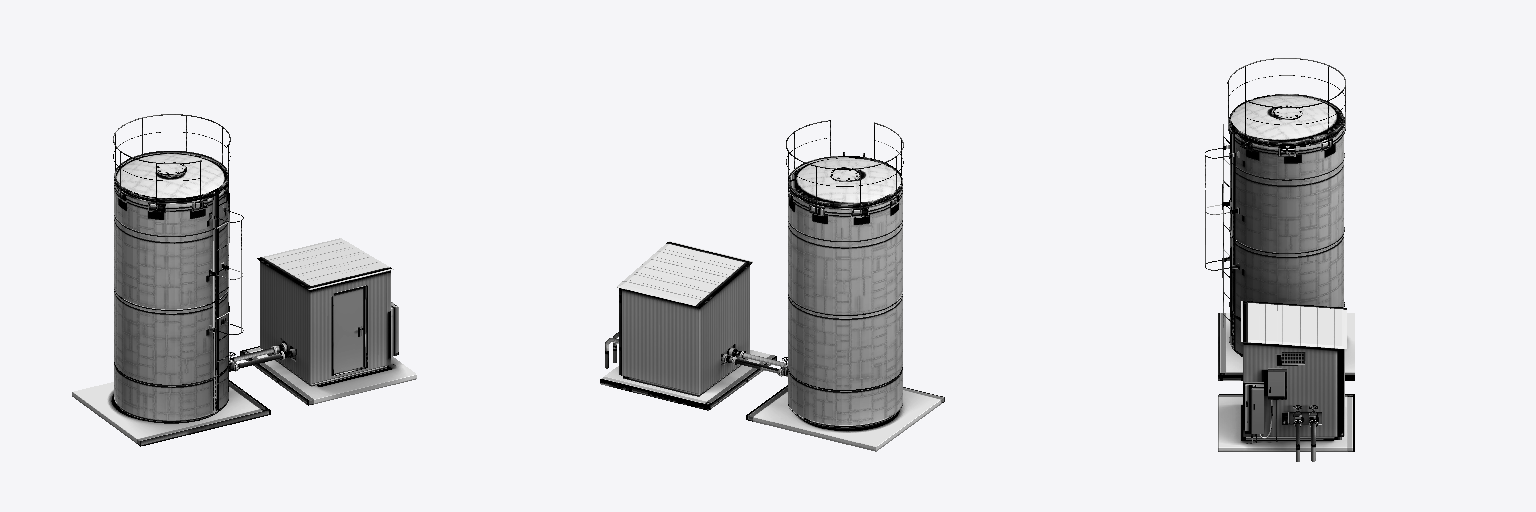
3 views of the same model, side by side, from view 1: azimuth 30°, elevation 25°; view 2: azimuth 150°, elevation 25°; view 3: azimuth 270°, elevation 25° (orthographic).
Visible parts, largest first — view 1: Rusted_water_tank; view 2: Rusted_water_tank; view 3: Rusted_water_tank.
Boxes of the visible parts, x1=… form: Rusted_water_tank: x1=72, y1=114, x2=416, y2=446; Rusted_water_tank: x1=600, y1=120, x2=944, y2=451; Rusted_water_tank: x1=1205, y1=58, x2=1354, y2=461.
Bounding box in the file's own units: 11.44 × 10.08 × 5.12.
1 materials, 1 textured.